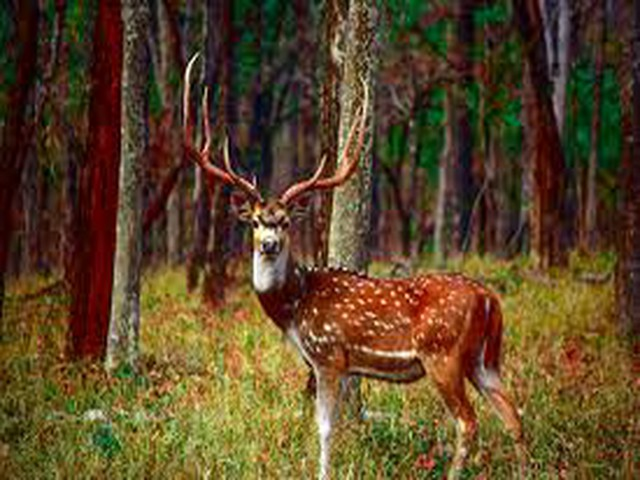deer: (176, 46, 538, 477)
